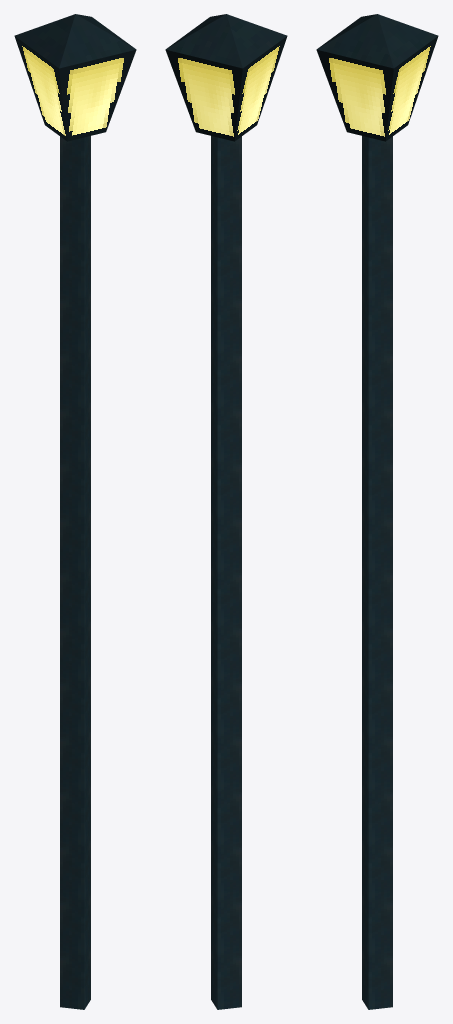
The model's file is lamp.glb.
3 renders of one model, left to right at view 1: azimuth 30°, elevation 25°; view 2: azimuth 150°, elevation 25°; view 3: azimuth 330°, elevation 25°, orthographic.
Visible parts, largest first — view 1: post, Cone; view 2: post, Cone; view 3: post, Cone.
Boxes of the visible parts, box(x1,y1,x2,y2) form: post: box(60, 136, 90, 1009); Cone: box(14, 14, 136, 141); post: box(211, 136, 241, 1009); Cone: box(165, 14, 287, 141); post: box(362, 136, 392, 1009); Cone: box(316, 14, 438, 141).
Size of the model in its own units: 0.7071 by 8.62 by 0.7071.
1 material, 1 textured.
